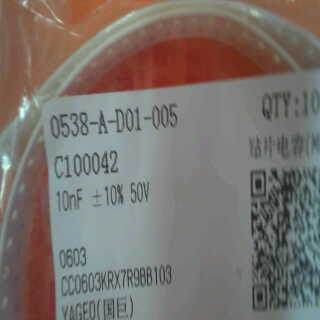10nF: (54, 182, 87, 214)
